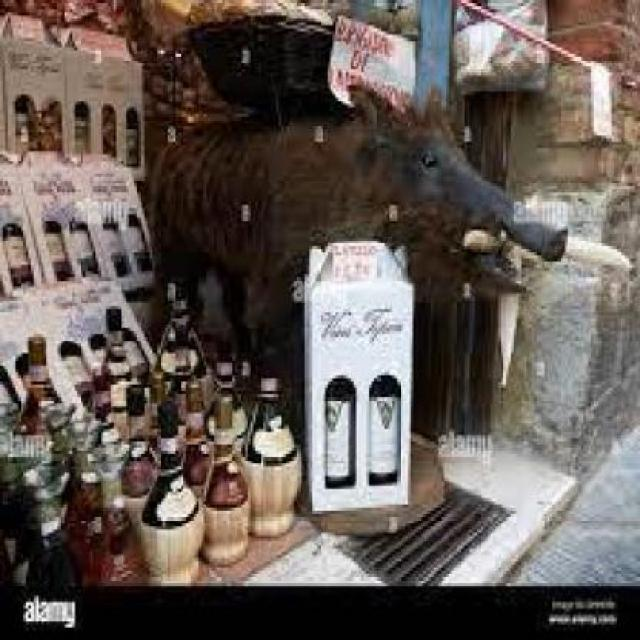wildboar: (111, 69, 574, 449)
